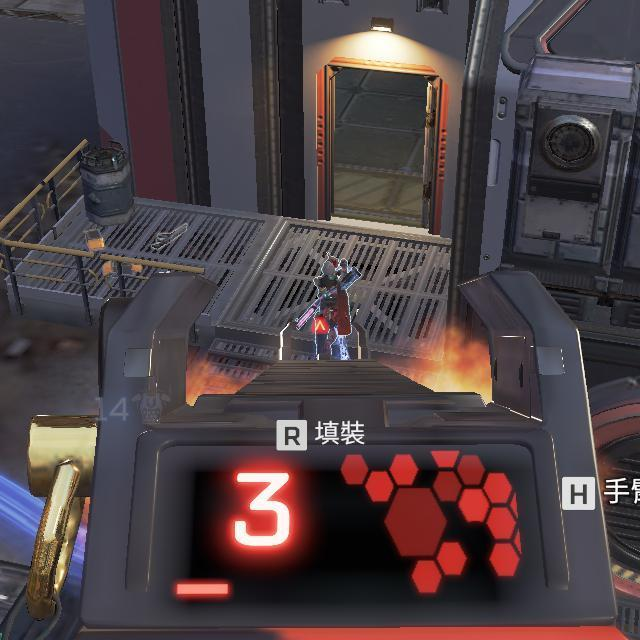avatar: (309, 253, 362, 363)
